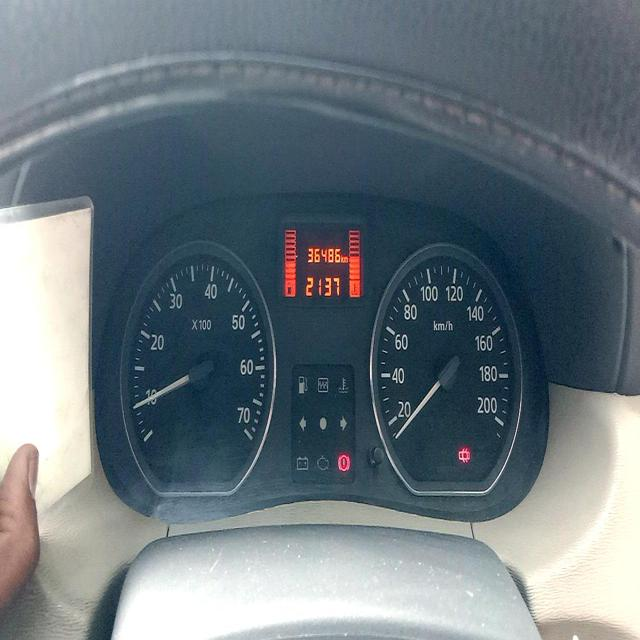odometer: (306, 244, 342, 266)
